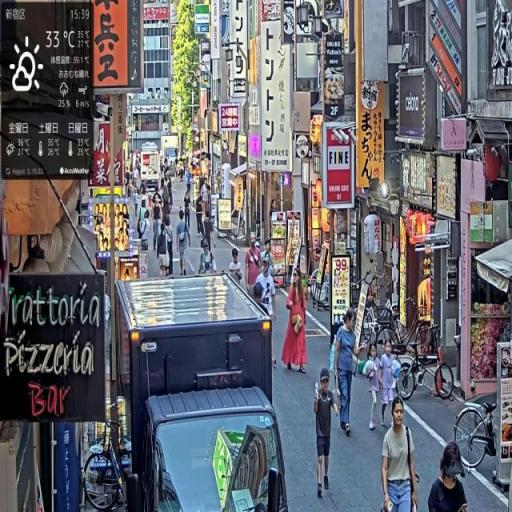person: (381, 397, 420, 512), (333, 308, 363, 441), (315, 368, 342, 499), (428, 442, 470, 512), (256, 254, 279, 374), (283, 268, 308, 375), (380, 339, 401, 430), (365, 342, 384, 434), (157, 217, 175, 280), (245, 234, 263, 296), (177, 210, 192, 278)
